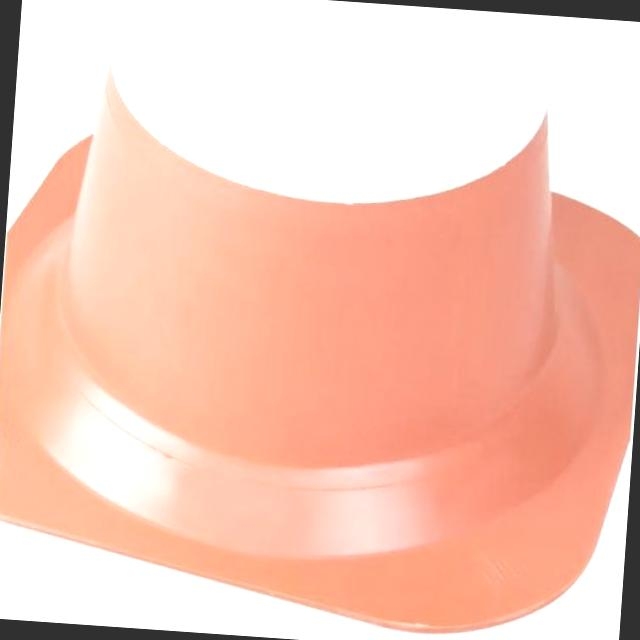cone: (3, 0, 633, 622)
